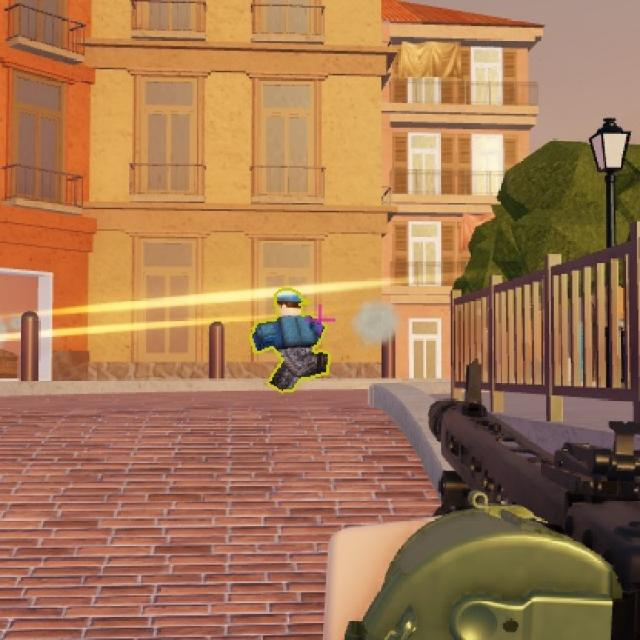player: (268, 277, 312, 387)
